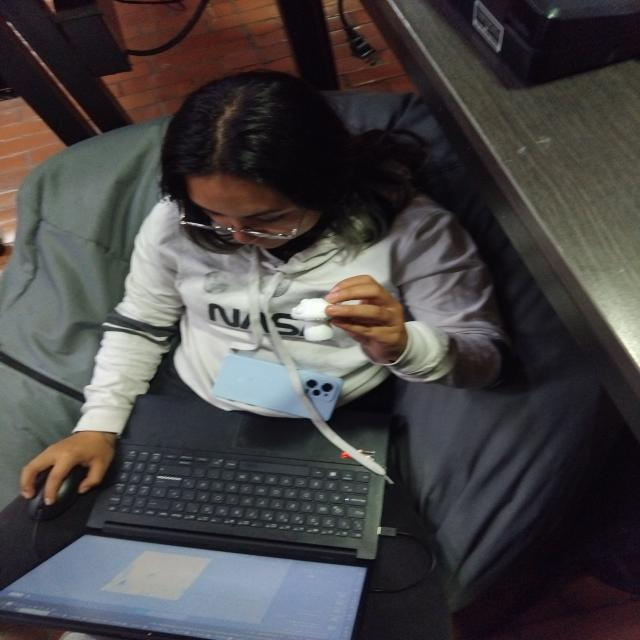Hongo: (284, 292, 361, 349)
